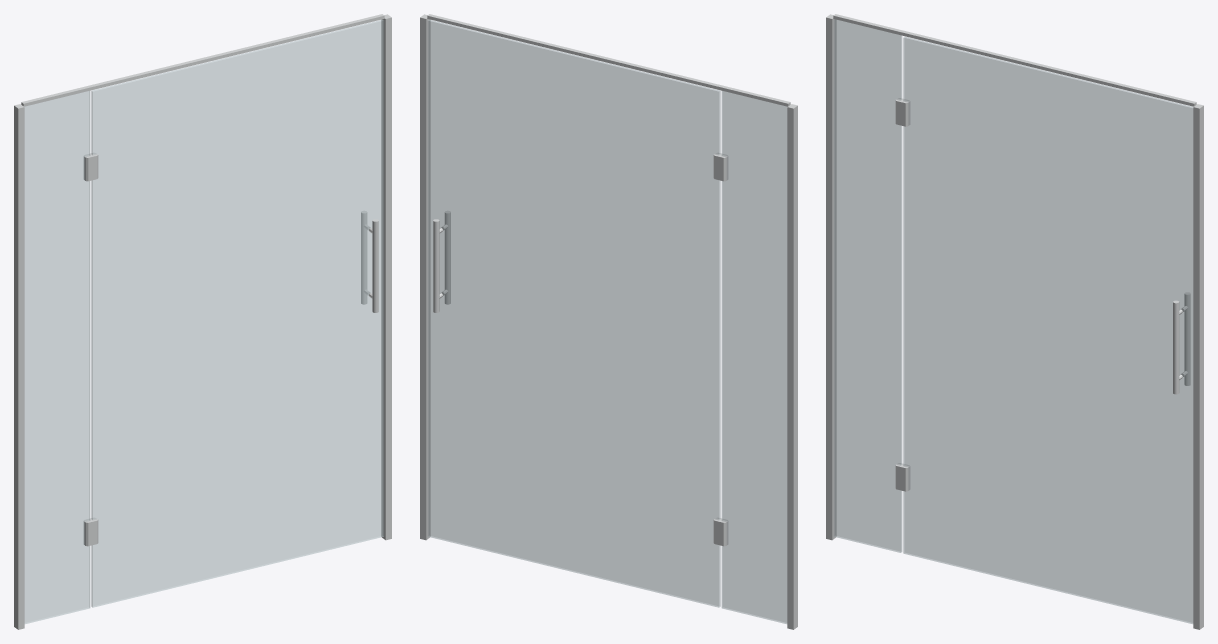
3 renders of one model, left to right at view 1: azimuth 30°, elevation 25°; view 2: azimuth 150°, elevation 25°; view 3: azimuth 330°, elevation 25°, orthographic.
Parts seen in each view (by area): view 1: Vách tắm kính Rộng=1500; view 2: Vách tắm kính Rộng=1500; view 3: Vách tắm kính Rộng=1500.
Boxes of the visible parts, x1,y1,x2,y2 form: Vách tắm kính Rộng=1500: (14, 14, 391, 629); Vách tắm kính Rộng=1500: (420, 14, 797, 629); Vách tắm kính Rộng=1500: (826, 14, 1203, 629).
Bounding box in the file's own units: 1.5 × 2.01 × 0.102.
